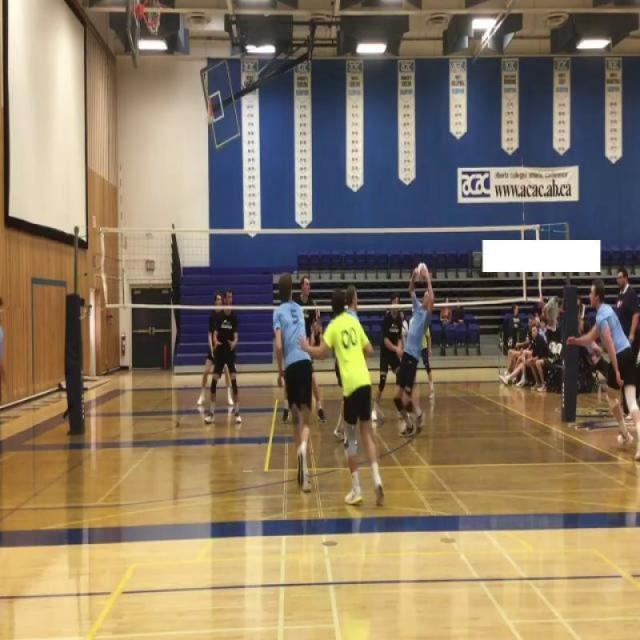volleyball: (417, 262, 427, 278)
